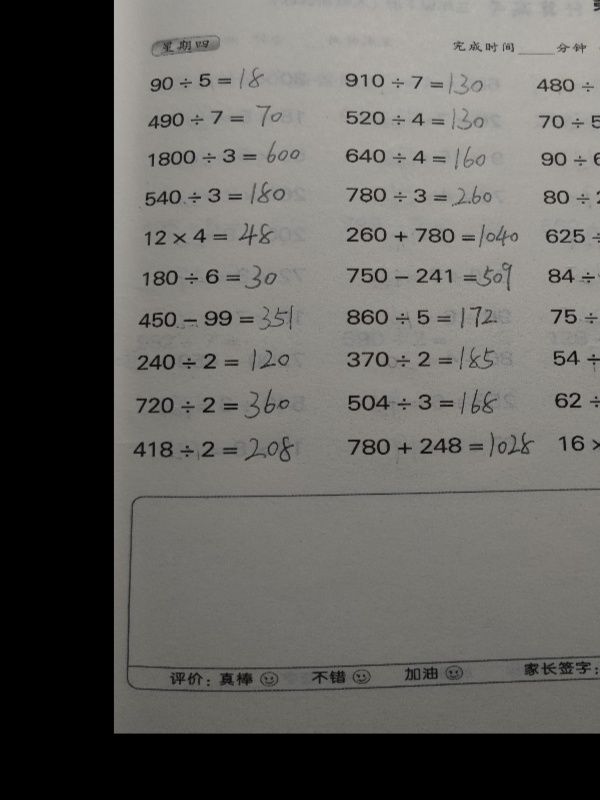equation: (347, 431, 542, 462), (346, 261, 522, 294), (343, 222, 522, 252), (135, 436, 303, 466), (134, 390, 300, 420), (339, 344, 507, 373), (145, 142, 303, 172), (342, 103, 492, 134), (141, 179, 295, 209), (342, 63, 491, 94), (341, 143, 489, 174), (344, 303, 506, 331), (143, 100, 286, 130), (139, 219, 282, 249), (137, 350, 294, 377), (346, 391, 507, 417), (342, 183, 495, 210), (136, 307, 303, 330), (142, 265, 285, 291), (146, 65, 267, 94), (536, 108, 600, 138), (539, 181, 600, 212), (534, 73, 600, 100), (544, 262, 600, 292), (538, 146, 600, 173), (555, 426, 600, 463), (551, 300, 600, 333), (547, 344, 600, 374), (545, 222, 600, 250), (551, 386, 600, 416)
